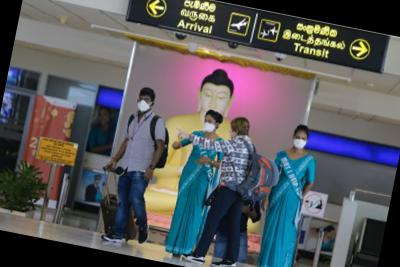with_mask: (136, 95, 154, 114), (293, 134, 310, 151), (203, 118, 217, 134)
without_mask: (227, 125, 243, 142)
